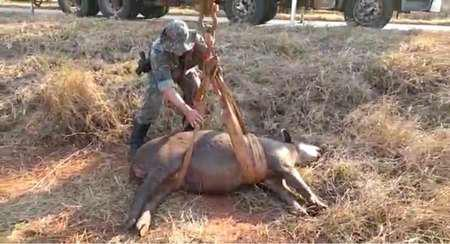Anta: (129, 127, 329, 238)
